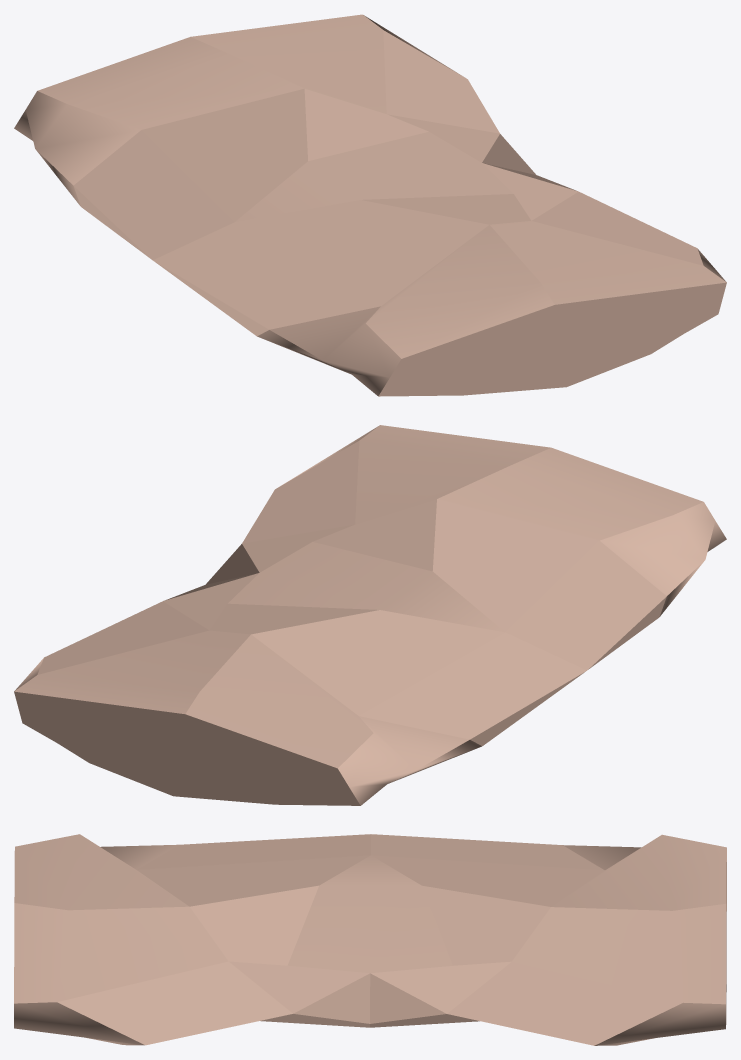
The model's file is plancherVolcanGrand.fbx.
3 views of the same model, one above another, from view 1: azimuth 30°, elevation 25°; view 2: azimuth 150°, elevation 25°; view 3: azimuth 270°, elevation 25° (orthographic). The views are drawn at different scales.
Parts seen in each view (by area): view 1: plancherVolcanGrand; view 2: plancherVolcanGrand; view 3: plancherVolcanGrand.
Boxes of the visible parts, x1=… form: plancherVolcanGrand: x1=14, y1=14, x2=726, y2=396; plancherVolcanGrand: x1=14, y1=425, x2=726, y2=805; plancherVolcanGrand: x1=14, y1=834, x2=726, y2=1045.
Bounding box in the file's own units: 370 × 89.23 × 547.
